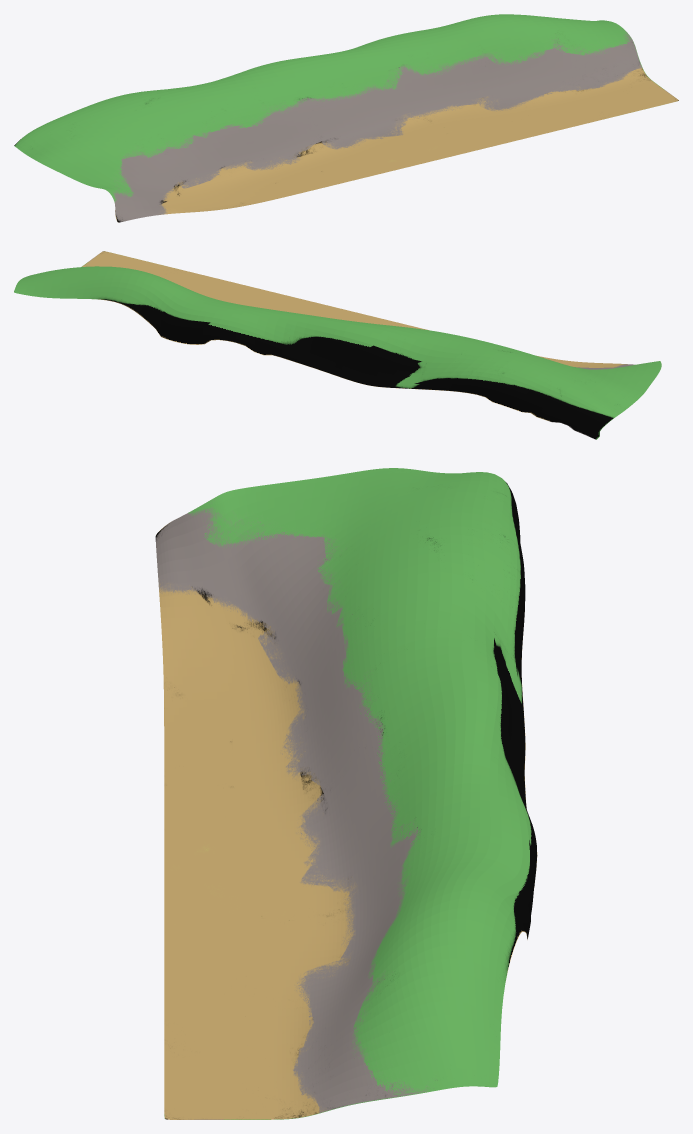
The model's file is beach.glb.
The picture shows the model from 3 angles, top to bottom: view 1: azimuth 30°, elevation 25°; view 2: azimuth 150°, elevation 25°; view 3: azimuth 270°, elevation 25°; orthographic projection. The views are drawn at different scales.
Visible parts, largest first — view 1: Plane.001; view 2: Plane.001; view 3: Plane.001.
Boxes of the visible parts, box(x1,y1,x2,y2) form: Plane.001: box(14, 14, 678, 222); Plane.001: box(14, 251, 661, 439); Plane.001: box(155, 468, 537, 1119).
Size of the model in its own units: 8.32 by 0.8546 by 2.3.
Materials: 1 (1 with a texture image).
